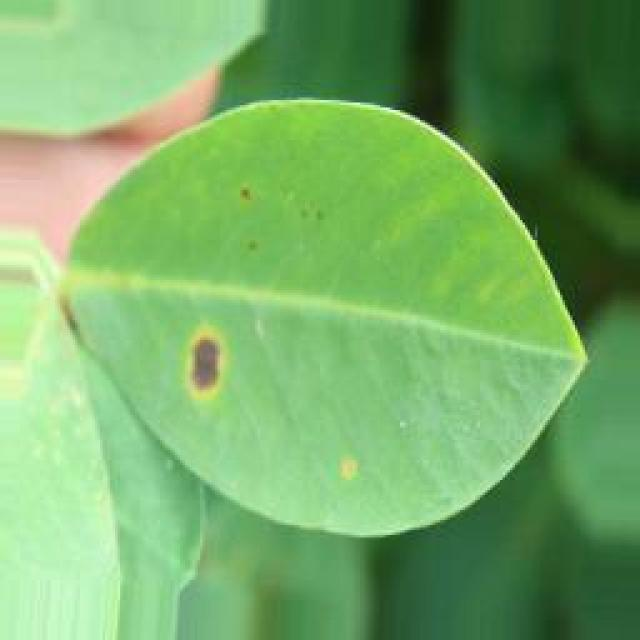Early_leaf_spot: (163, 316, 274, 450), (216, 159, 272, 260)
